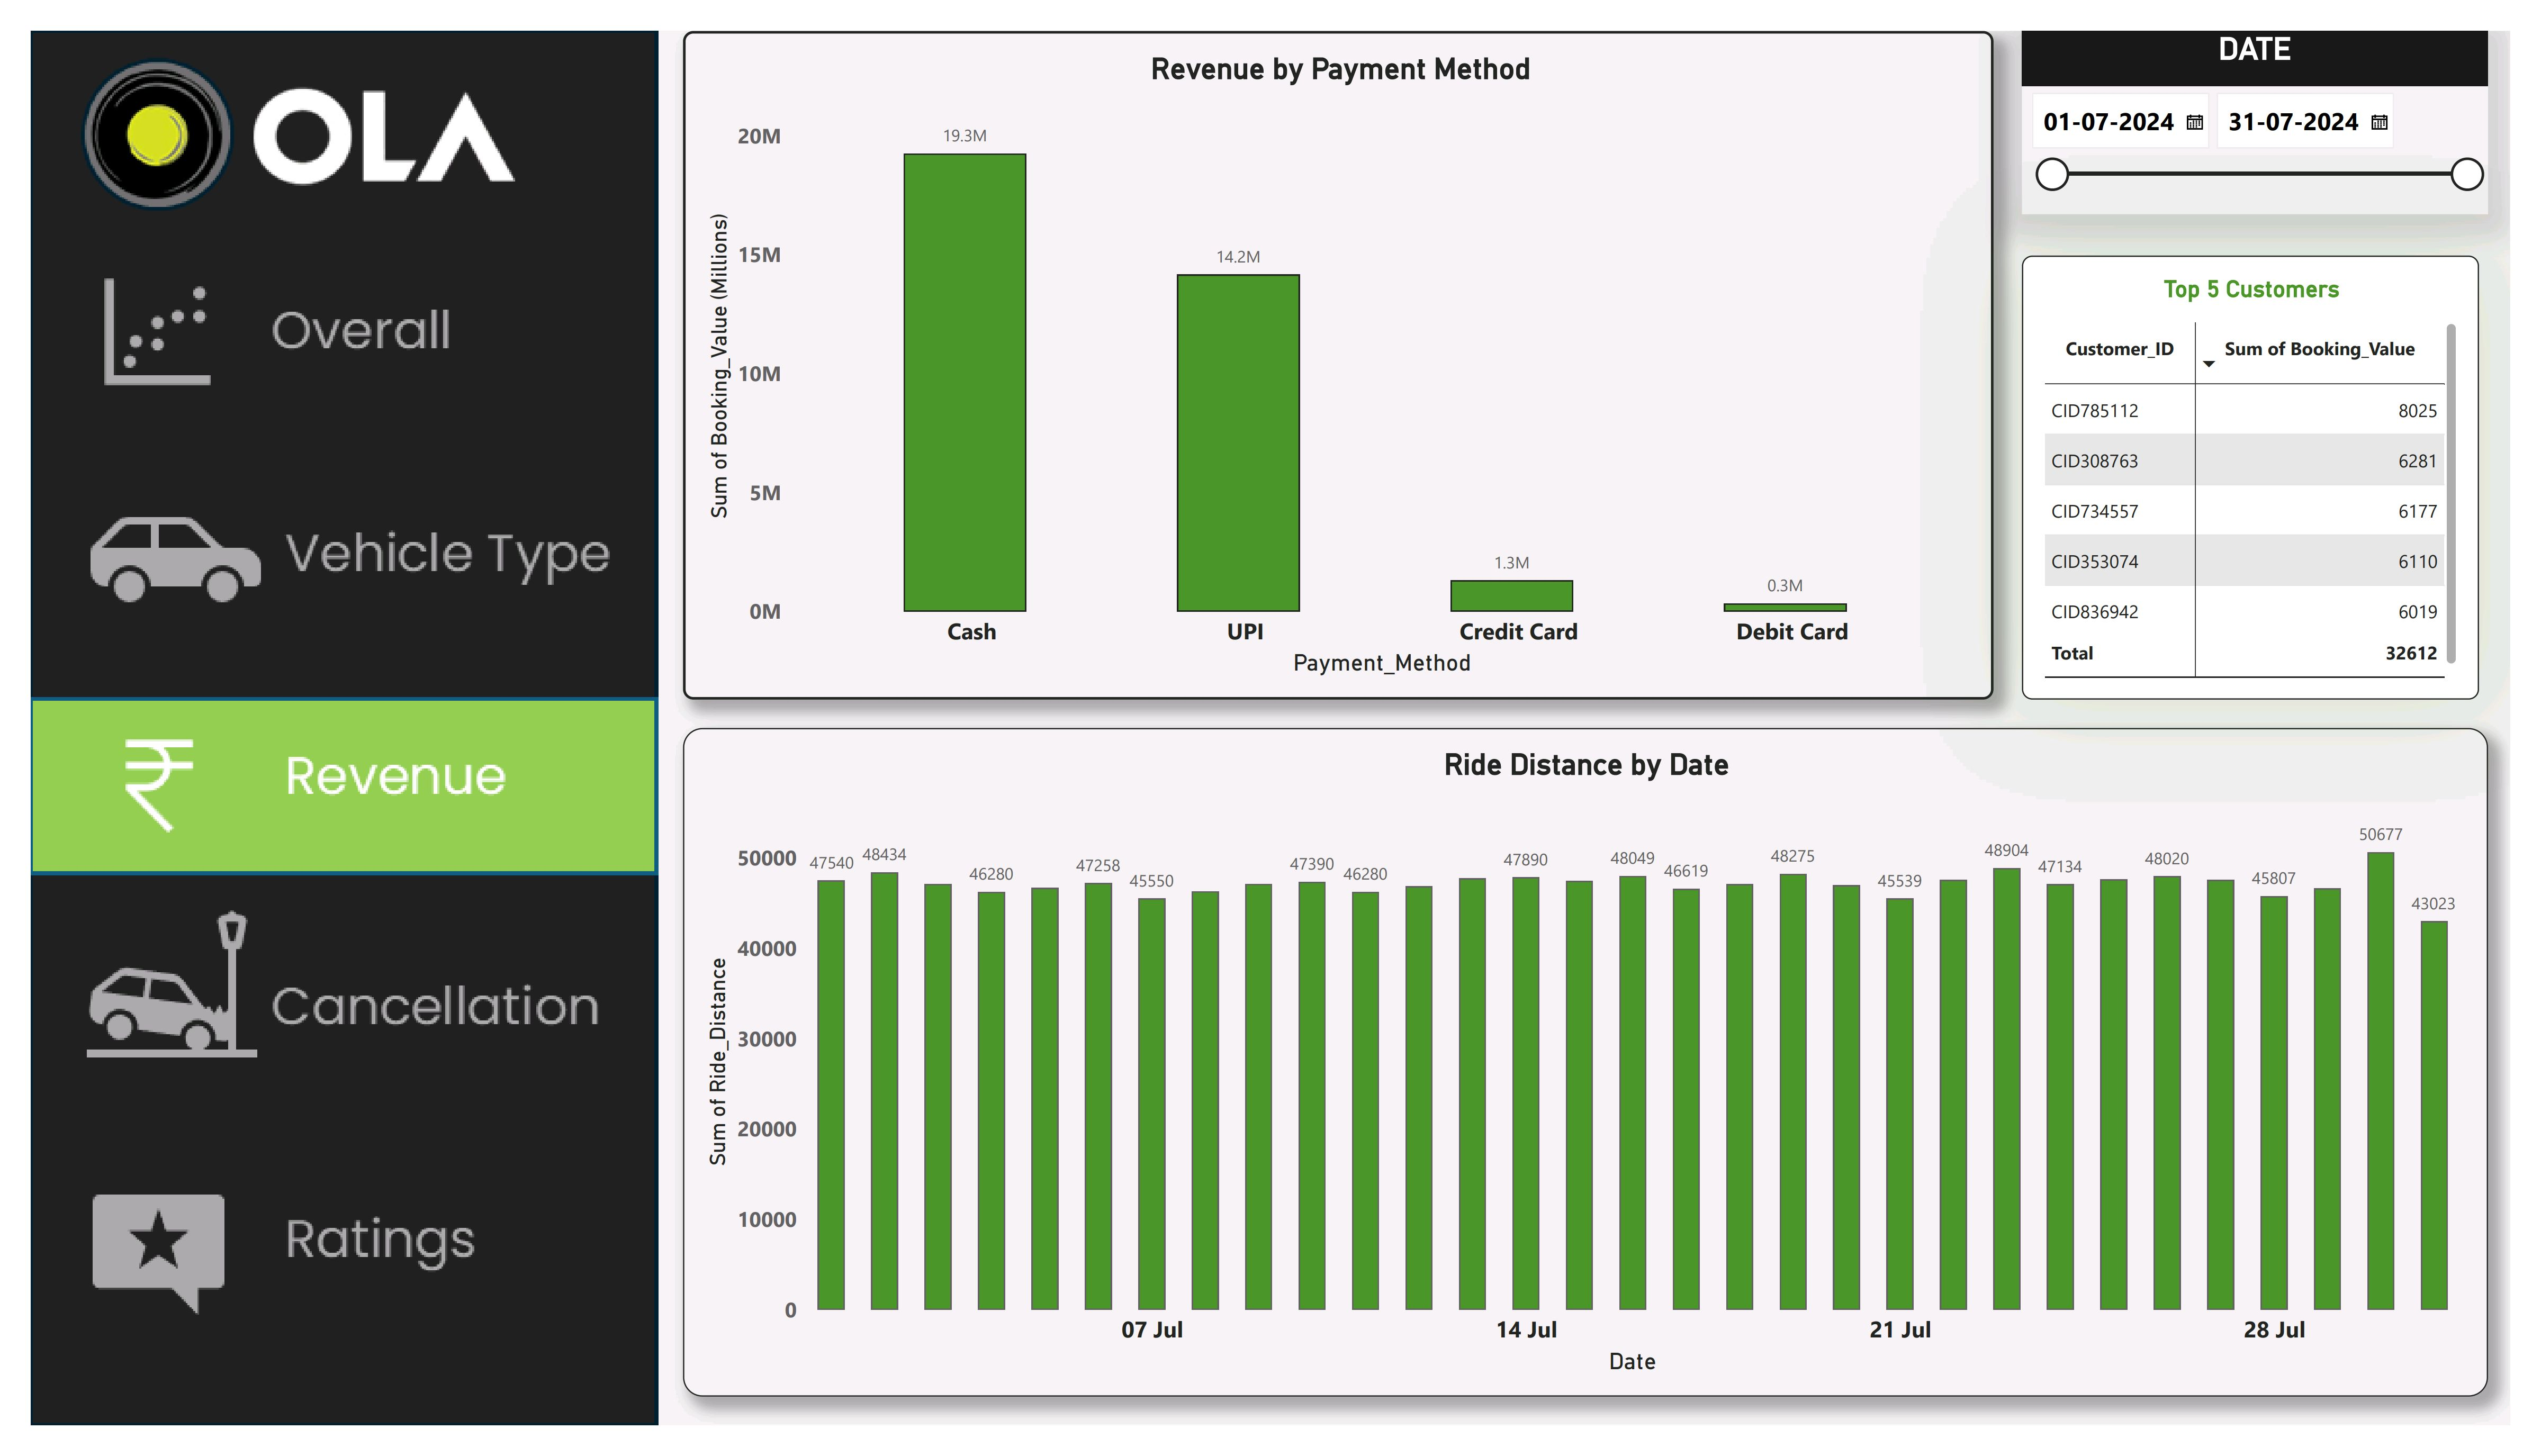

This screenshot's page, from the dashboard's own definition file:
{"tool":"powerbi","page":{"name":"Revenue","canvas":[1920,1080],"ordinal":2},"visuals":[{"type":"actionButton","box":[0,173.9,487,128.3],"z":0},{"type":"actionButton","box":[0,343.5,487,128.3],"z":1000},{"type":"actionButton","box":[0,673.9,487,128.3],"z":2000},{"type":"actionButton","box":[0,873.9,487,128.3],"z":3000},{"type":"clusteredColumnChart","title":" Revenue by Payment Method","fields":{"Category":["Bookings.Payment_Method"],"Y":["Sum(Bookings.Booking_Value)"]},"box":[505.4,0,1015.1,518.3],"z":4000},{"type":"clusteredColumnChart","title":"Ride Distance by Date","fields":{"Y":["Sum(Bookings.Ride_Distance)"],"Category":["Bookings.Date"]},"box":[505.4,539.8,1397.9,518.3],"z":5000},{"type":"slicer","title":"DATE","fields":{"Values":["Bookings.Date"]},"box":[1542,0,361.3,141.9],"z":6000},{"type":"tableEx","title":"Top 5 Customers","fields":{"Values":["Bookings.Customer_ID","Sum(Bookings.Booking_Value)"]},"box":[1542,174,354,344],"z":7000}]}

Visuals, with their boxes in screenshot pixels (x1, y1, x2, y2), scaled from the page's 1920x1080 canvas onto the 2541x1456 screenshot:
actionButton: (x1=0, y1=234, x2=645, y2=408)
actionButton: (x1=0, y1=463, x2=645, y2=636)
actionButton: (x1=0, y1=909, x2=645, y2=1081)
actionButton: (x1=0, y1=1178, x2=645, y2=1351)
" Revenue by Payment Method" clusteredColumnChart: (x1=669, y1=0, x2=2012, y2=699)
"Ride Distance by Date" clusteredColumnChart: (x1=669, y1=728, x2=2519, y2=1426)
"DATE" slicer: (x1=2041, y1=0, x2=2519, y2=191)
"Top 5 Customers" tableEx: (x1=2041, y1=234, x2=2509, y2=698)
